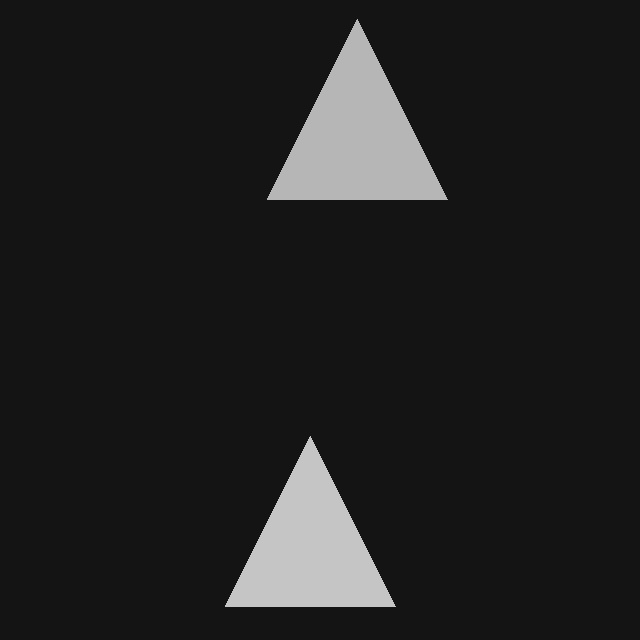triangle: (267, 19, 447, 199), (225, 436, 395, 606)
